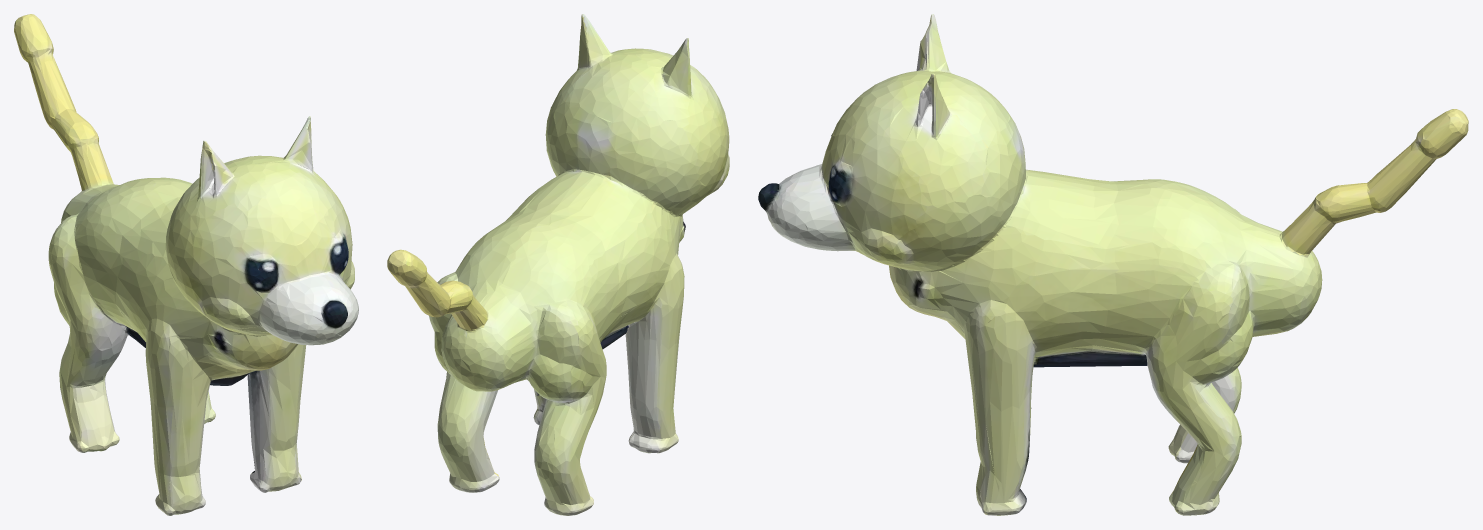
File: creature-071.lod.glb
3 renders of one model, left to right at view 1: azimuth 30°, elevation 25°; view 2: azimuth 150°, elevation 25°; view 3: azimuth 270°, elevation 25°, orthographic. The views are drawn at different scales.
Visible parts, largest first — view 1: tmpkj7_5w9p.ply; view 2: tmpkj7_5w9p.ply; view 3: tmpkj7_5w9p.ply.
Boxes of the visible parts, x1=… form: tmpkj7_5w9p.ply: x1=14, y1=14, x2=358, y2=515; tmpkj7_5w9p.ply: x1=387, y1=14, x2=729, y2=515; tmpkj7_5w9p.ply: x1=758, y1=14, x2=1468, y2=515.
Size of the model in its own units: 0.589 by 1.36 by 1.99.
Materials: 1 (1 with a texture image).
